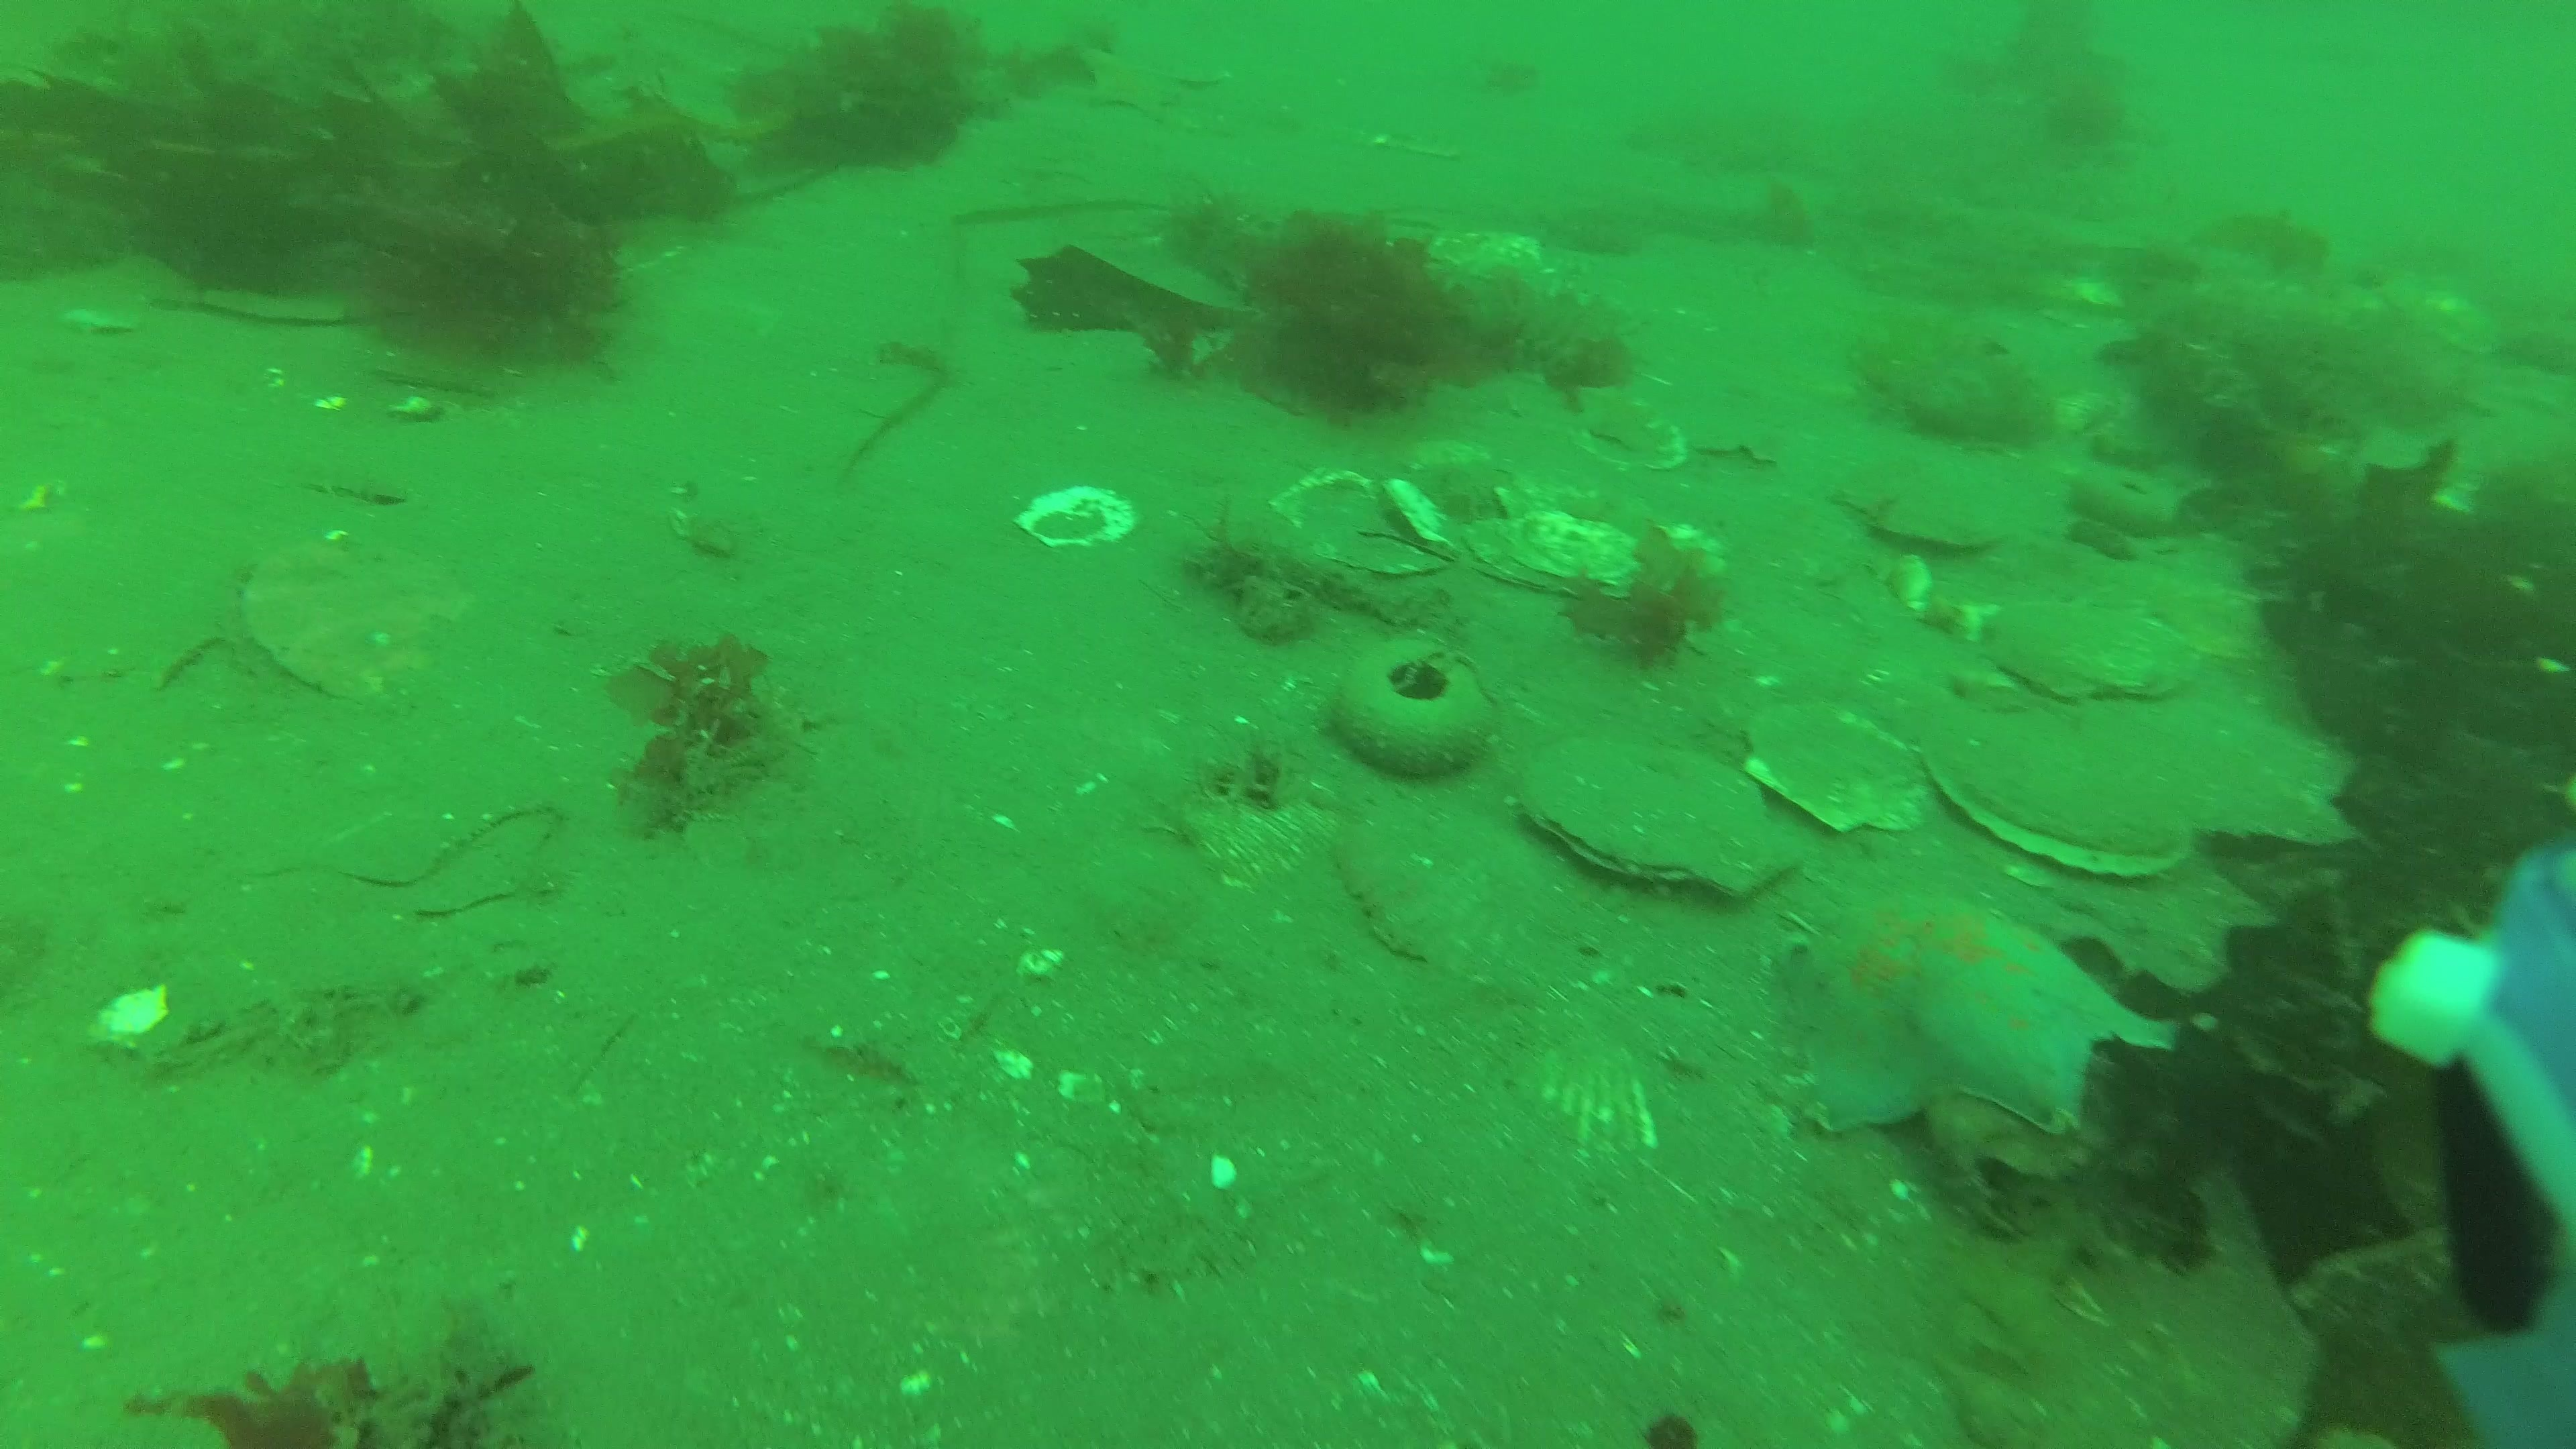scallop: (1925, 688, 2206, 888), (1514, 727, 1813, 904), (1741, 708, 1943, 832)
starfish: (1766, 893, 2183, 1145)
